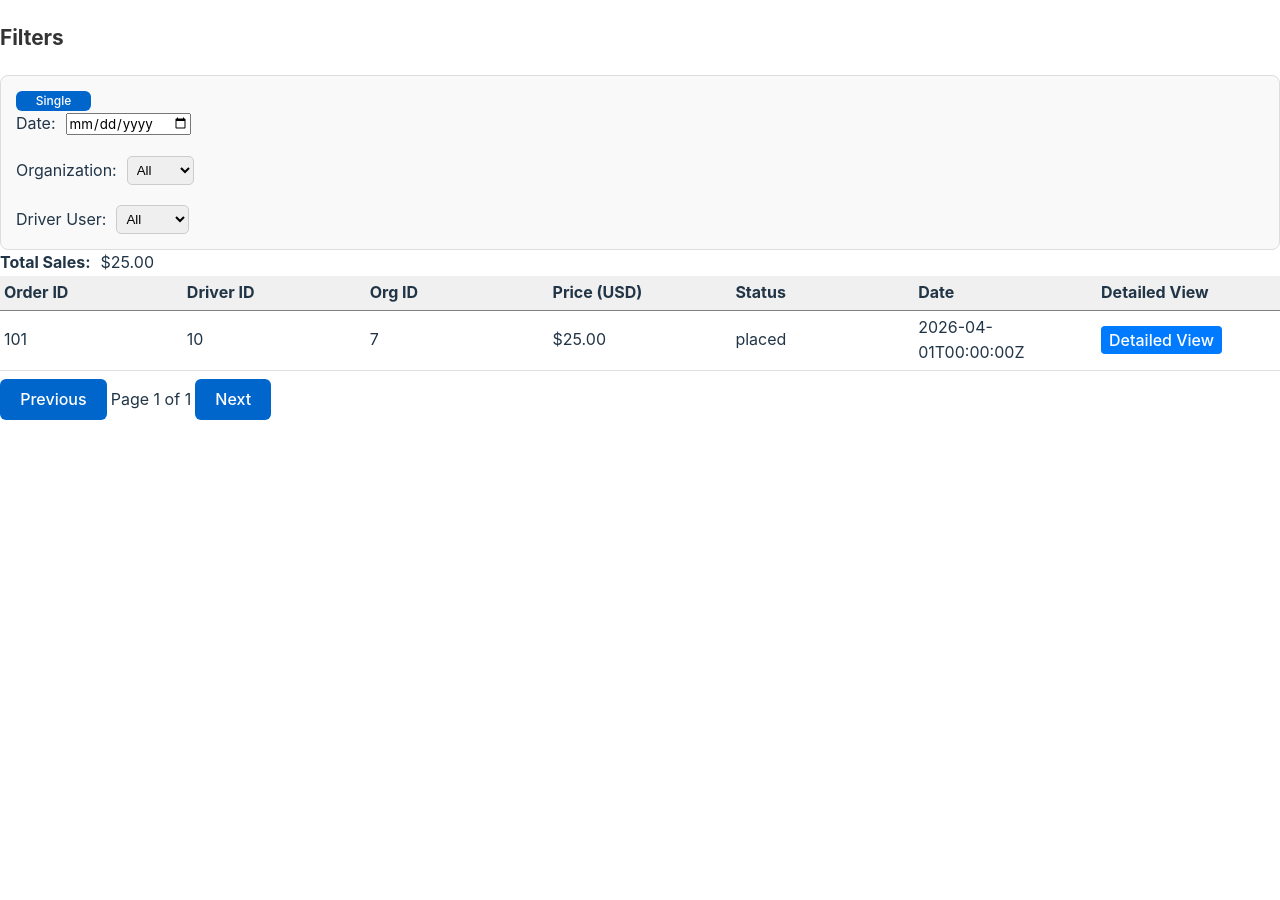
it: Sales — AdminReport Sales page › opens detailed modal and loads order items when Detailed View clicked
Check: the text "101" is shown, box [0,310,183,370]
Click the button "Detailed View": click(1162, 340) [1101,326,1222,354]
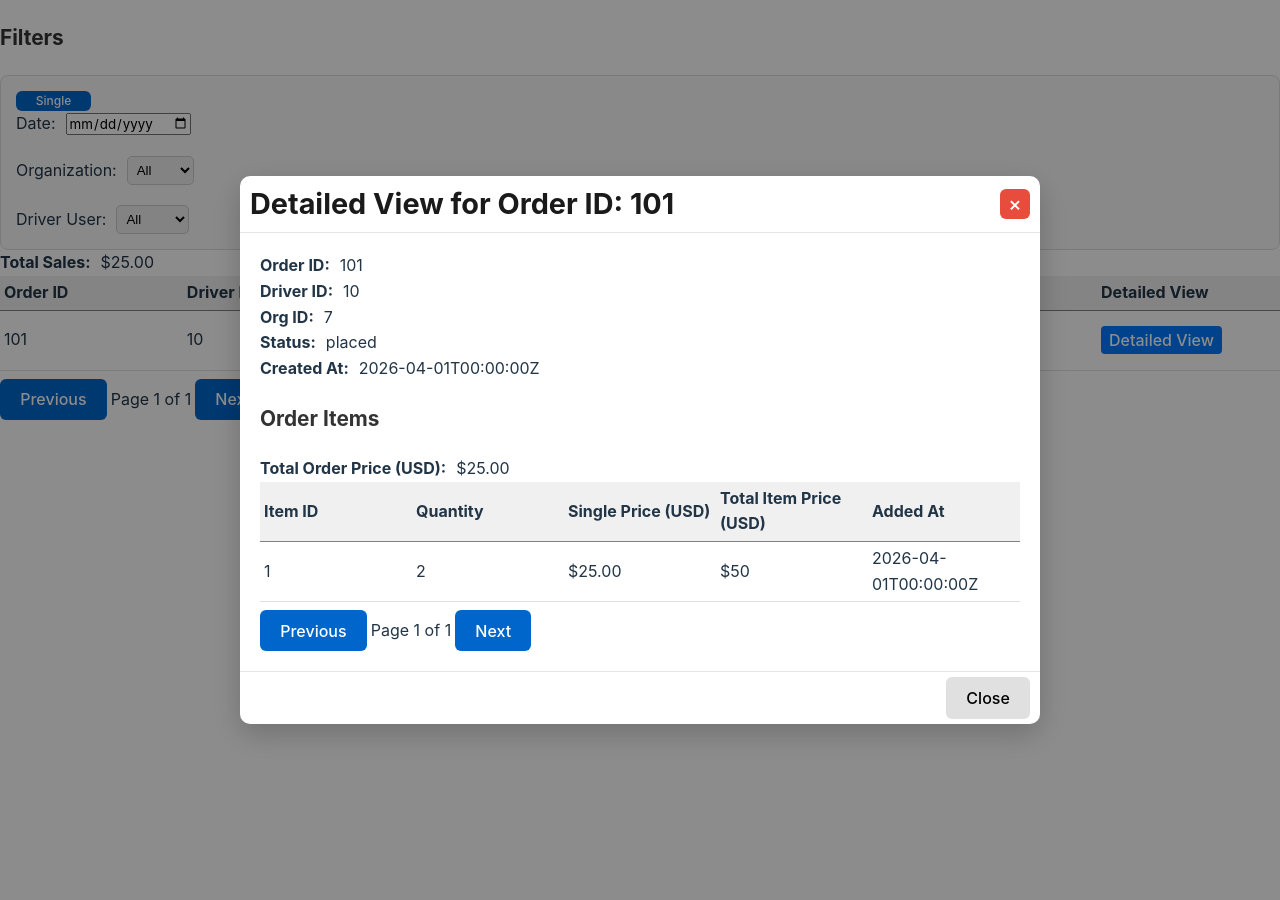
Check: the heading "Detailed View for Order ID: 101" is shown, box [250,181,674,228]
Check: the text "1" is shown, box [260,542,412,602]
Check: the text "$25.00" is shown, box [564,542,716,602]
